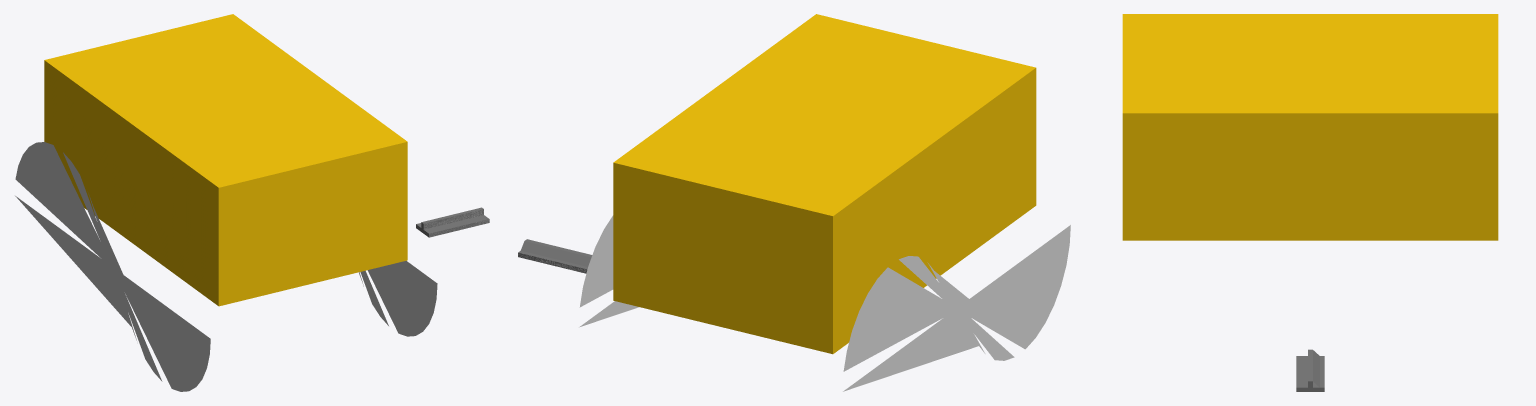
The model's file is bulldozer_components.glb.
3 renders of one model, left to right at view 1: azimuth 30°, elevation 25°; view 2: azimuth 150°, elevation 25°; view 3: azimuth 270°, elevation 25°, orthographic. The views are drawn at different scales.
Parts seen in each view (by area): view 1: Bulldozer_Body, Asset_TrackPath_L, Asset_TrackPath_R, Asset_TrackLink; view 2: Bulldozer_Body, Asset_TrackPath_L, Asset_TrackPath_R, Asset_TrackLink; view 3: Bulldozer_Body, Asset_TrackLink.
Boxes of the visible parts, x1,y1,x2,y2 form: Bulldozer_Body: (44,14,407,306); Asset_TrackPath_L: (15,142,210,391); Asset_TrackPath_R: (359,260,437,336); Asset_TrackLink: (416,207,489,237); Bulldozer_Body: (613,14,1036,354); Asset_TrackPath_L: (843,225,1070,391); Asset_TrackPath_R: (579,215,638,327); Asset_TrackLink: (518,239,592,273); Bulldozer_Body: (1122,14,1498,240); Asset_TrackLink: (1296,349,1324,391).
Size of the model in its own units: 4.9 by 2.74 by 4.5.
